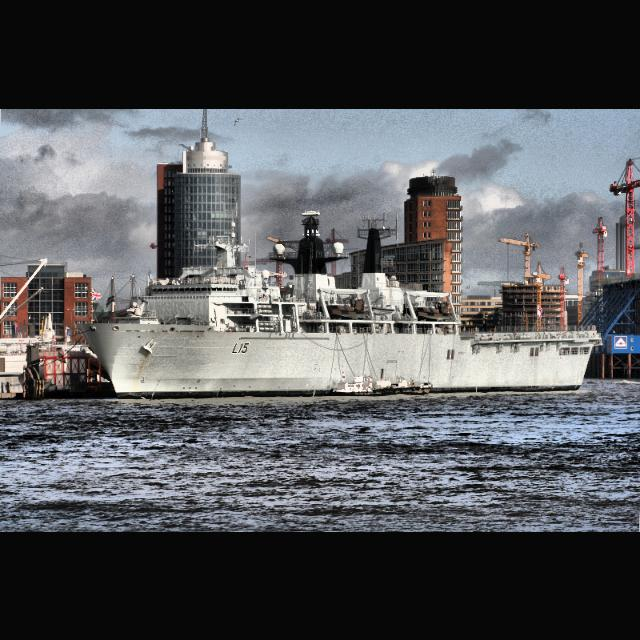combat_vessel: (75, 206, 602, 400)
